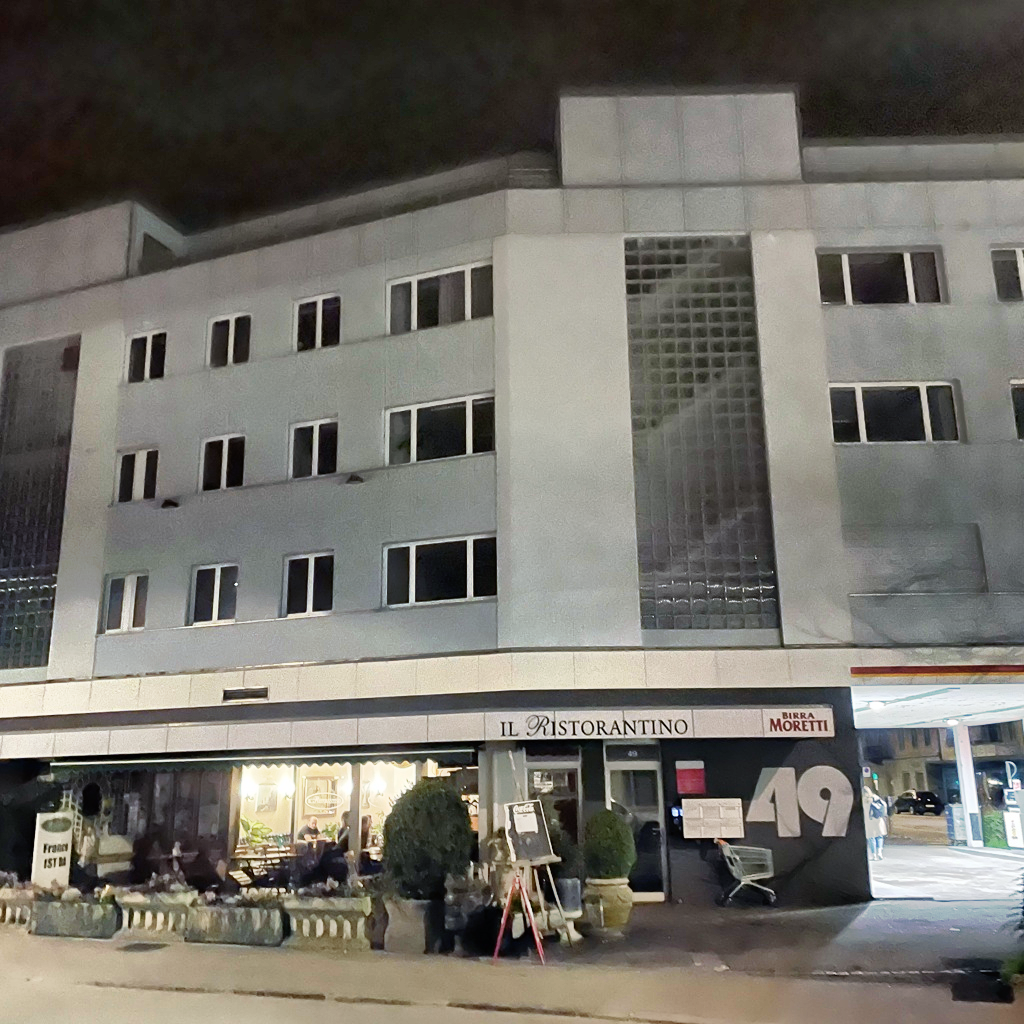glass_panel: (862, 386, 925, 440), (415, 540, 466, 602), (848, 252, 908, 303), (416, 402, 466, 461), (927, 385, 957, 440), (992, 249, 1023, 301), (830, 388, 859, 442), (910, 251, 940, 302), (438, 271, 465, 323), (817, 253, 845, 303), (473, 537, 496, 596), (285, 557, 308, 614), (386, 547, 409, 604), (389, 282, 412, 335), (416, 276, 439, 328), (388, 410, 410, 464), (472, 398, 494, 452), (312, 555, 333, 610), (470, 265, 492, 317), (202, 440, 224, 491), (193, 568, 214, 621), (317, 422, 338, 475), (104, 577, 124, 631), (296, 301, 317, 350), (292, 426, 312, 477), (218, 565, 236, 619), (232, 315, 251, 364), (321, 296, 339, 346), (210, 319, 229, 366), (118, 453, 136, 502), (149, 332, 167, 380), (131, 575, 147, 628), (226, 437, 243, 486), (128, 336, 146, 381), (142, 450, 158, 498), (1011, 385, 1024, 440)
